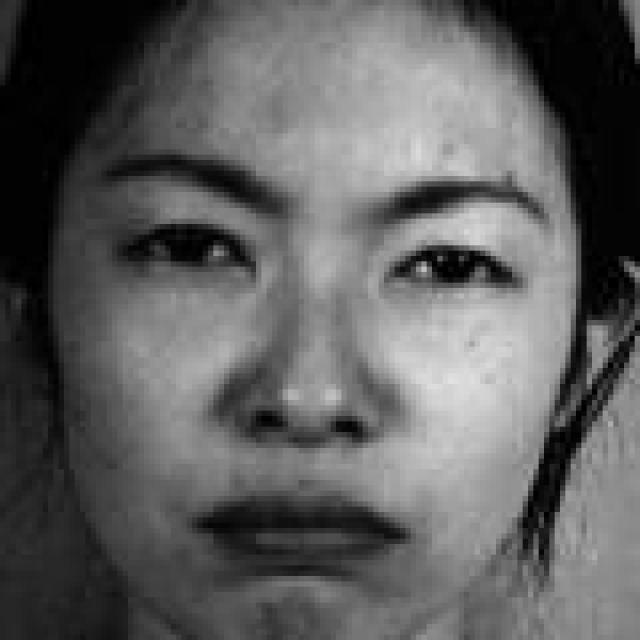disgust: (88, 40, 547, 634)
